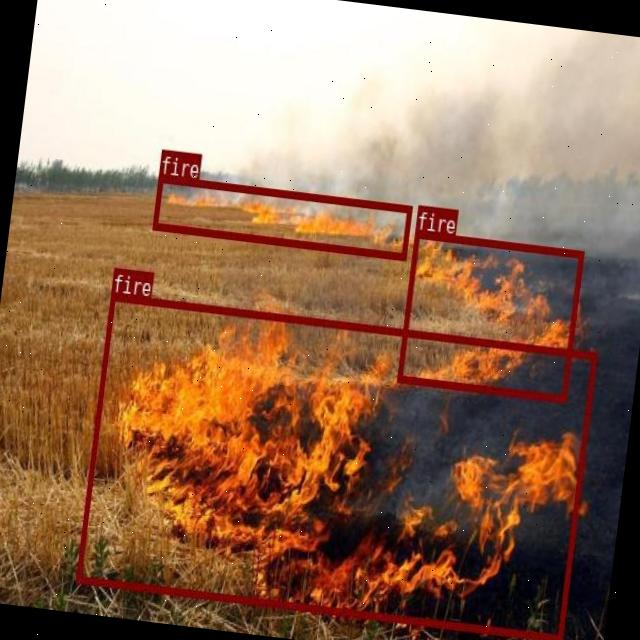fire: (75, 291, 596, 640), (397, 230, 582, 401), (152, 174, 411, 259)
